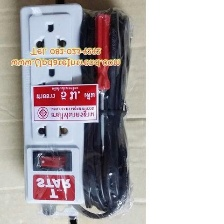three_eye_plug: (14, 0, 95, 208)
